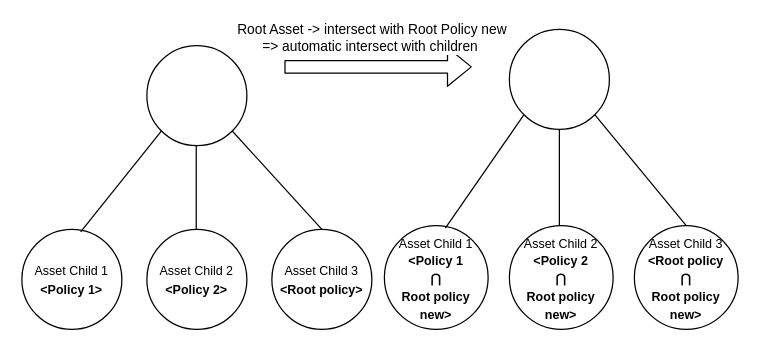
Image size: 760x351. Some labels were removed from this diagram. Here are the shapes that lost their labels. From the top down, the centre of each, then its label:
point 196,95: Root Asset <Root policy>
point 558,78: Root Asset <Root policy ⋂ Root policy new>
